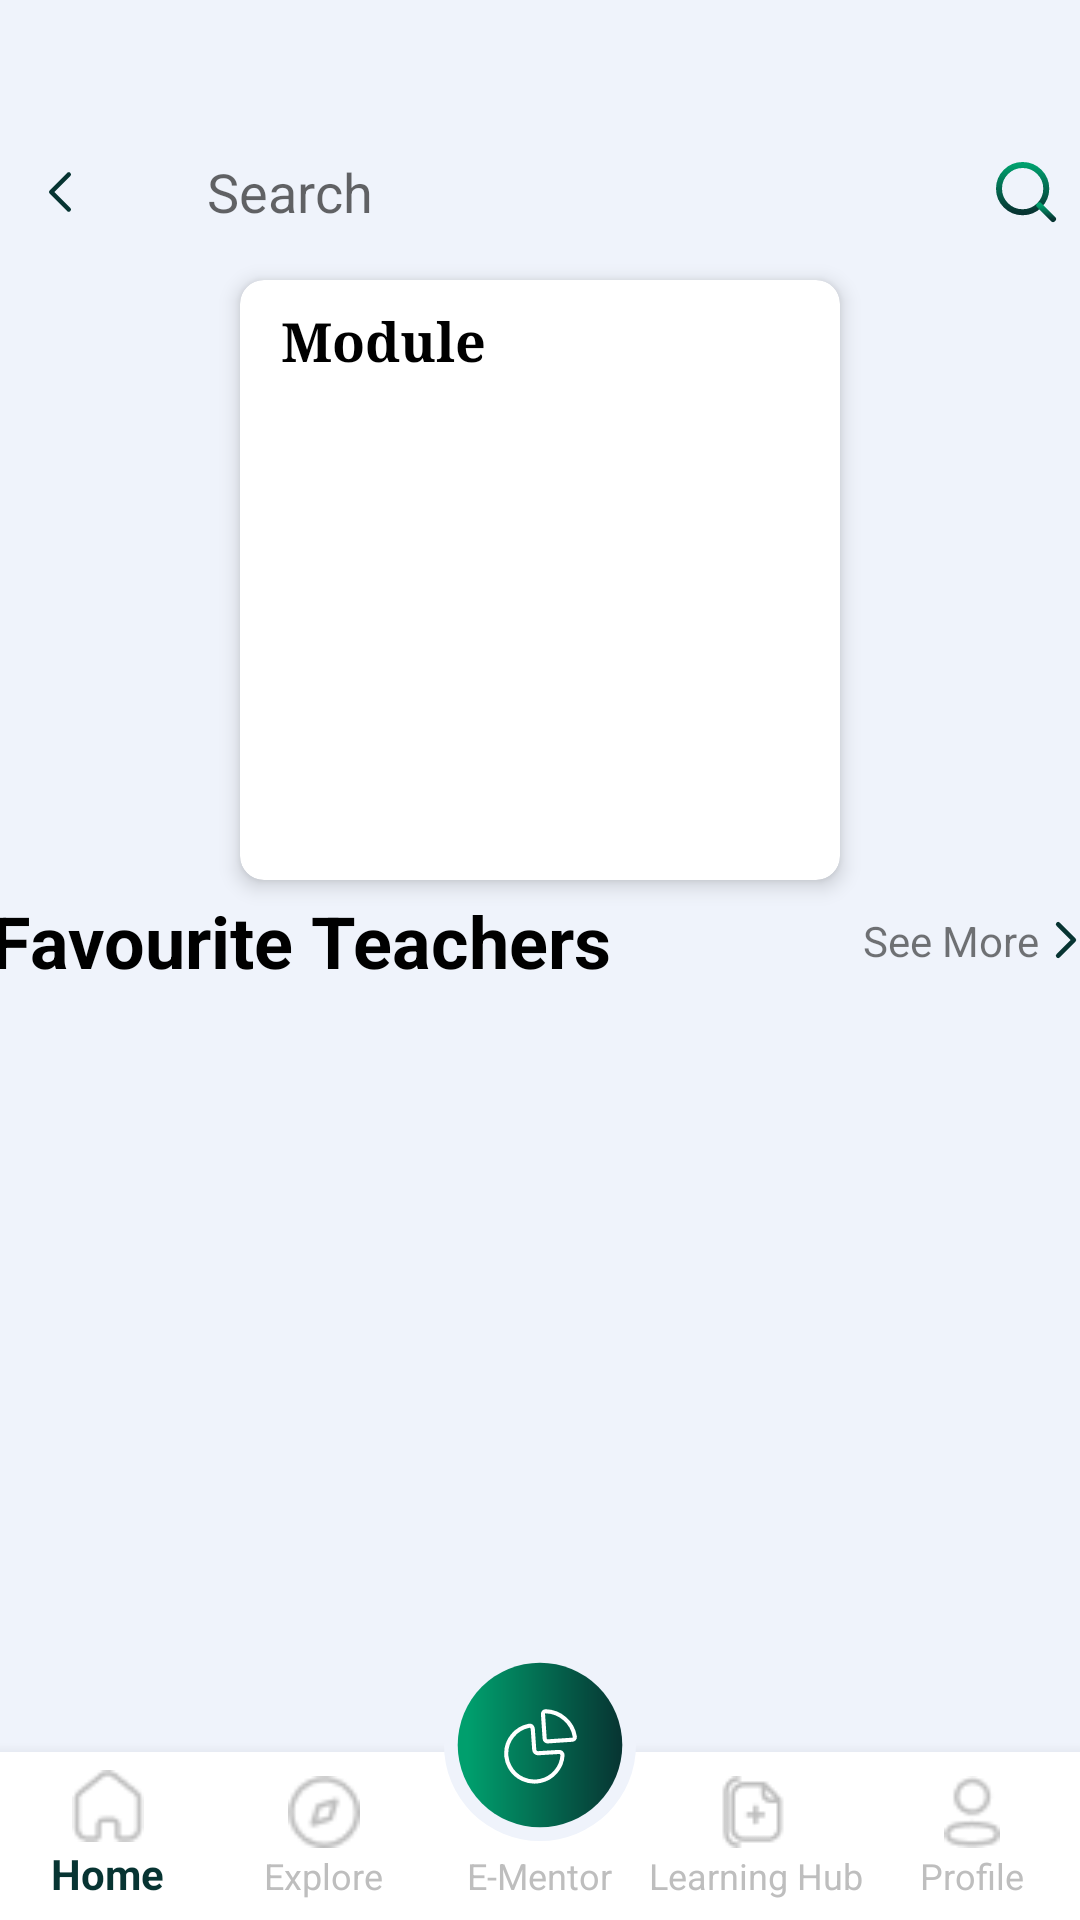

Where icons sit on this 1080×1920 app screen, as [x1, y1, x2, y2]:
backbtnarrow: [49, 172, 71, 212]
